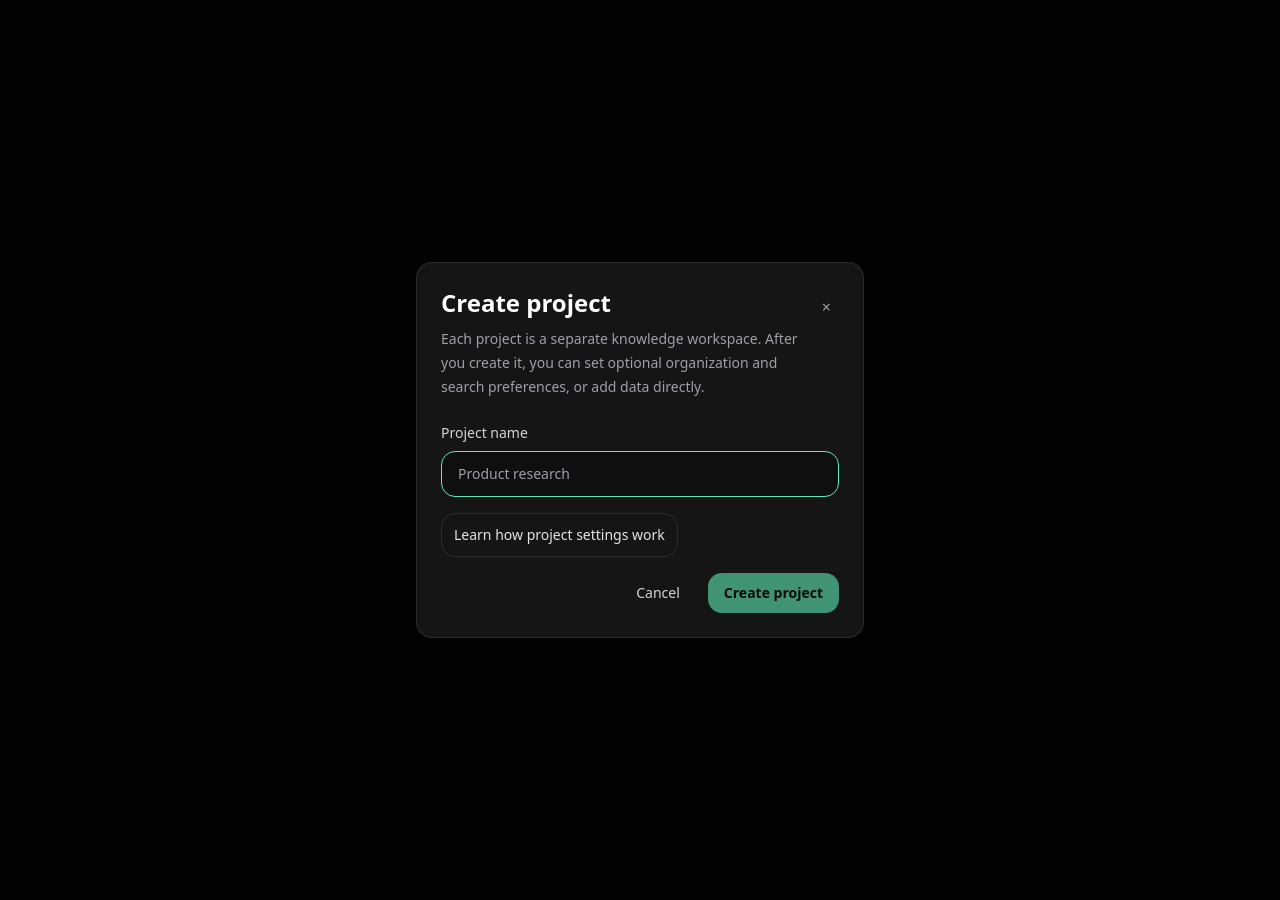
LWC-406 project creation › keeps the name and error after a create failure without navigating
Type "Research" into the field labelled "Project name".
click(640, 474); type("Research")  # box [441,451,839,497]
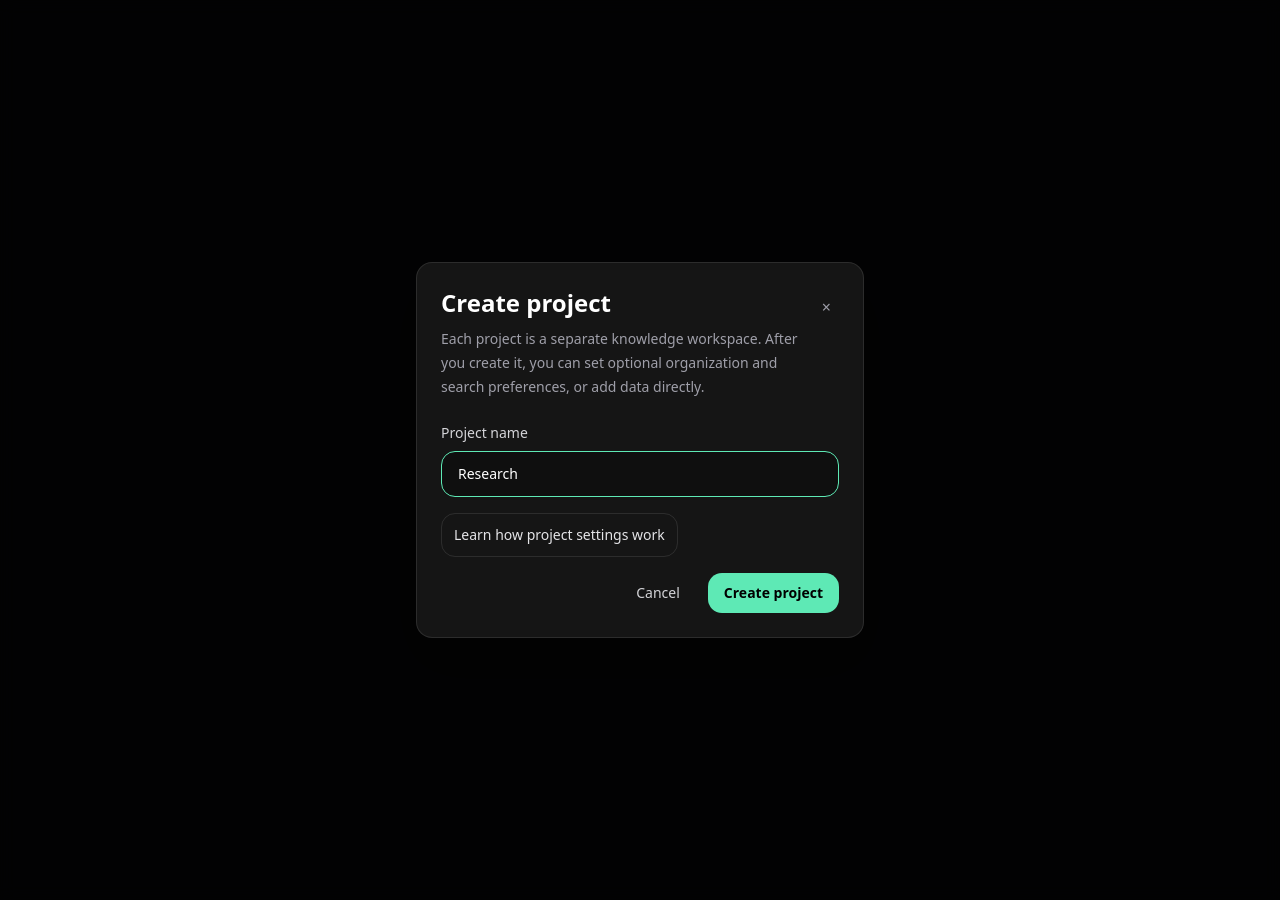
Click the button "Create project".
click(773, 593)  # box [708,573,839,613]
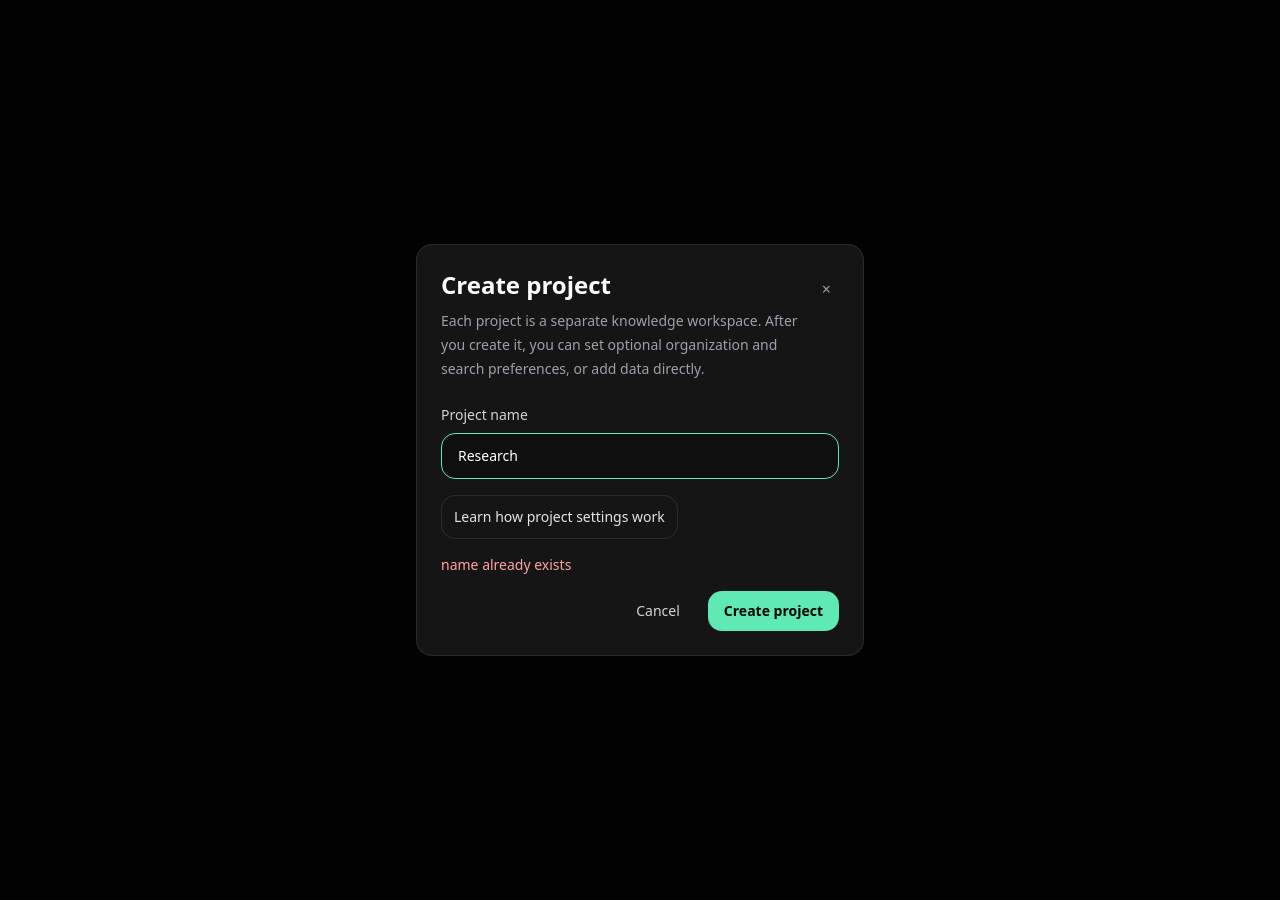
expect the message reads "name already exists": met, box [441,555,571,574]
